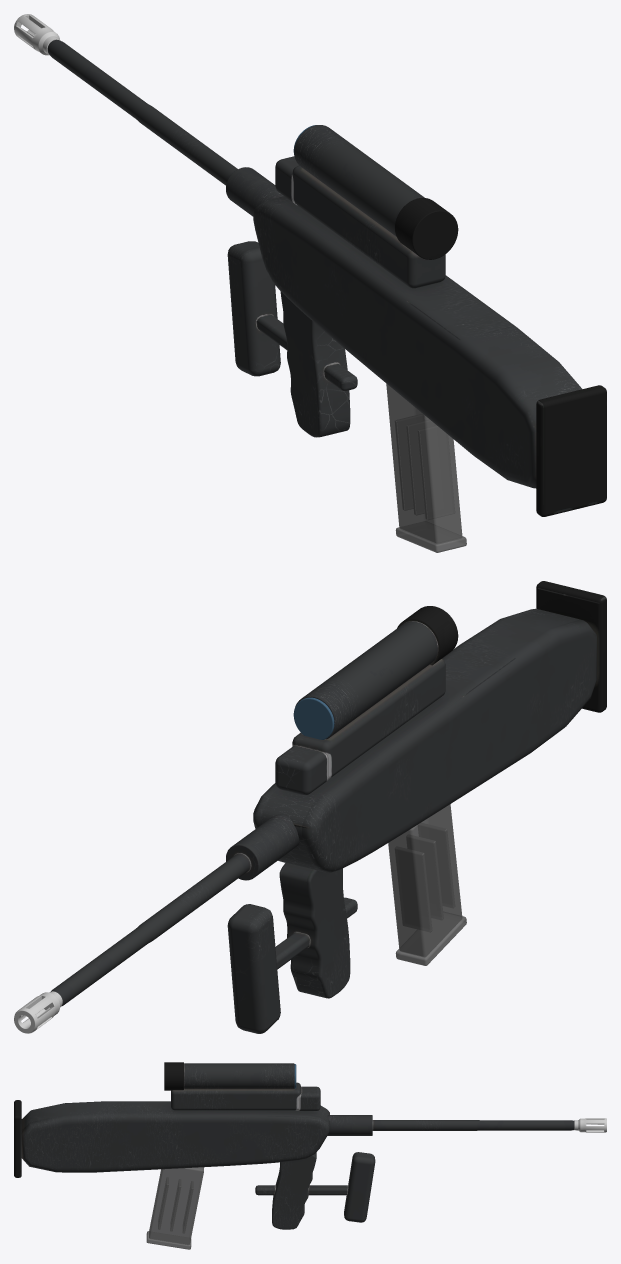
File: aug.gltf
3 views of the same model, one above another, from view 1: azimuth 30°, elevation 25°; view 2: azimuth 150°, elevation 25°; view 3: azimuth 270°, elevation 25° (orthographic). The views are drawn at different scales.
Parts seen in each view (by area): view 1: Stock, Frame, Mag_body, Mag_body_rib0, Mag_body_base, Mag_body_rib2, Mag_body_rib1, FlashHider; view 2: Stock, Frame, Mag_body, Mag_body_rib2, Mag_body_base, OpticLensF, Mag_body_rib1, Mag_body_rib0, FlashHider; view 3: Stock, Frame, Mag_body, Mag_body_base, FlashHider.
Part boxes in pixels (<box>): Stock: <box>253,196,606,516</box>; Frame: <box>47,39,458,437</box>; Mag_body: <box>386,383,462,544</box>; Mag_body_rib0: <box>417,425,454,519</box>; Mag_body_base: <box>395,522,466,552</box>; Mag_body_rib2: <box>394,414,424,510</box>; Mag_body_rib1: <box>406,419,435,515</box>; FlashHider: <box>14,14,60,55</box>; Stock: <box>253,581,606,872</box>; Frame: <box>51,606,458,1033</box>; Mag_body: <box>388,804,462,957</box>; Mag_body_rib2: <box>395,846,432,932</box>; Mag_body_base: <box>395,913,466,965</box>; OpticLensF: <box>293,697,334,739</box>; Mag_body_rib1: <box>406,834,443,919</box>; Mag_body_rib0: <box>418,823,455,908</box>; FlashHider: <box>14,991,62,1033</box>; Stock: <box>14,1100,329,1177</box>; Frame: <box>164,1062,574,1229</box>; Mag_body: <box>149,1167,203,1244</box>; Mag_body_base: <box>146,1231,191,1249</box>; FlashHider: <box>574,1118,606,1132</box>.
Size of the model in its own units: 0.064 by 0.3096 by 0.911.
